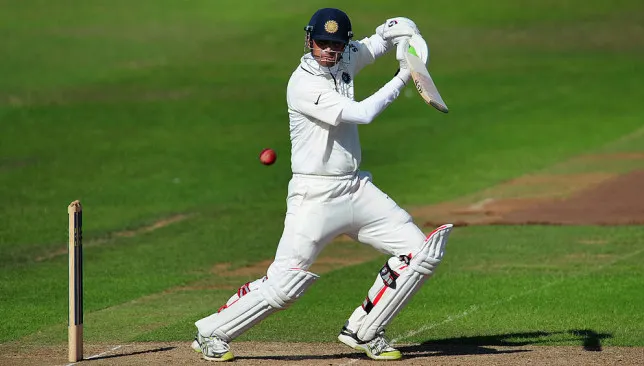Cutshot: (163, 0, 462, 366)
